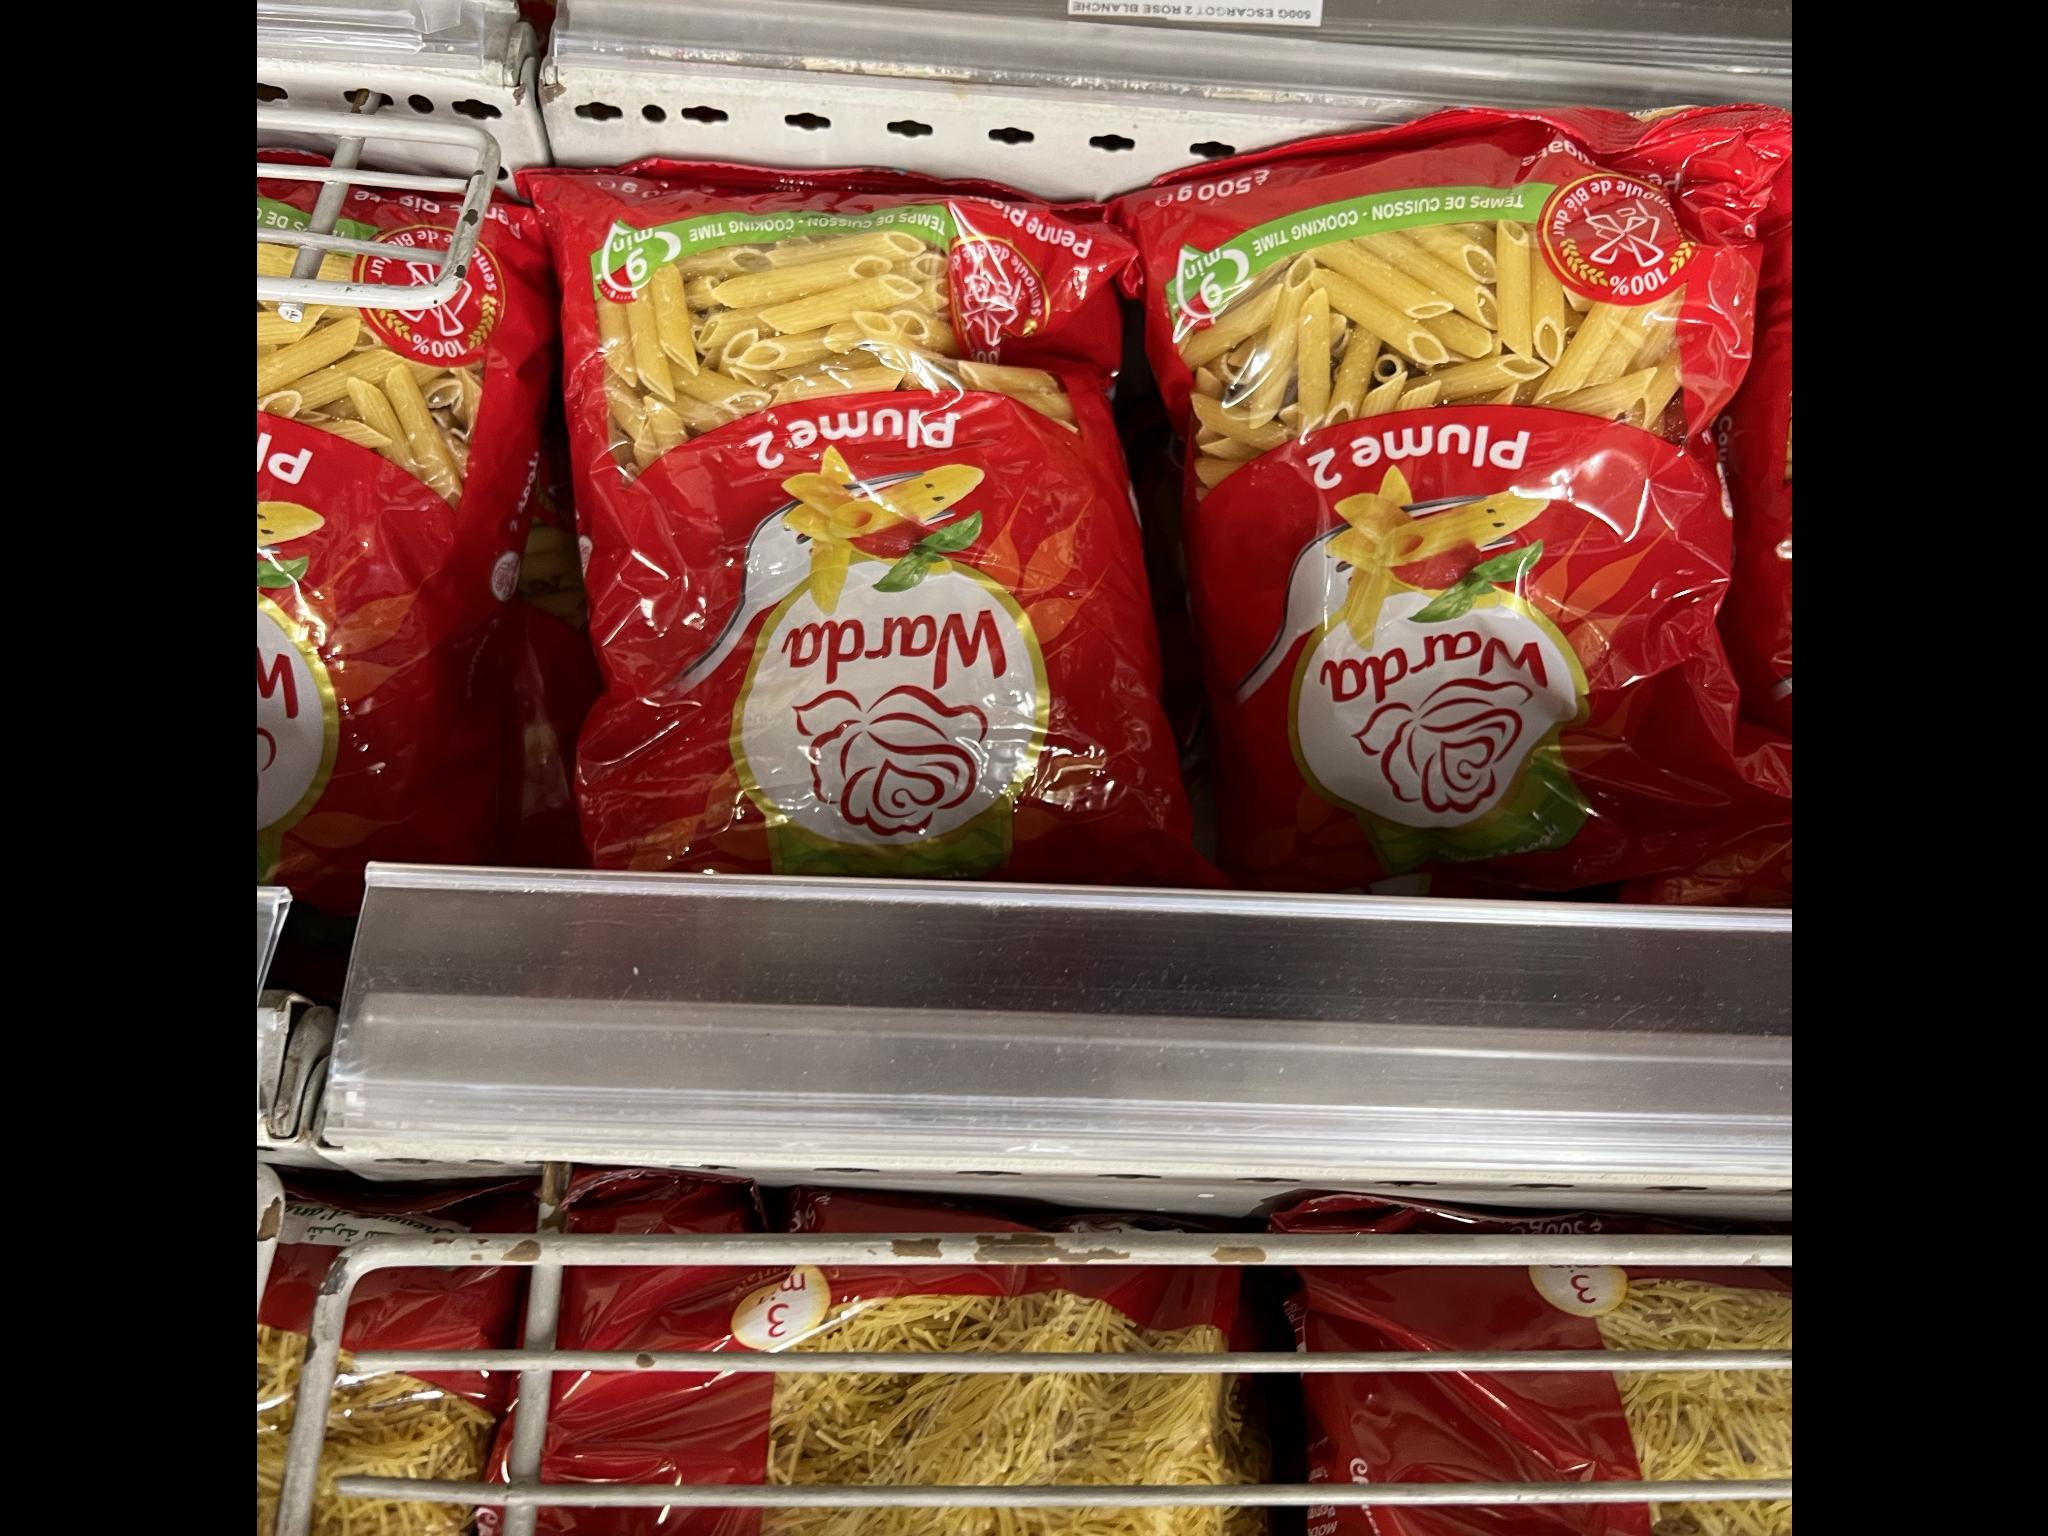plume: (1119, 77, 1769, 876), (537, 192, 1129, 883), (256, 169, 552, 907)
